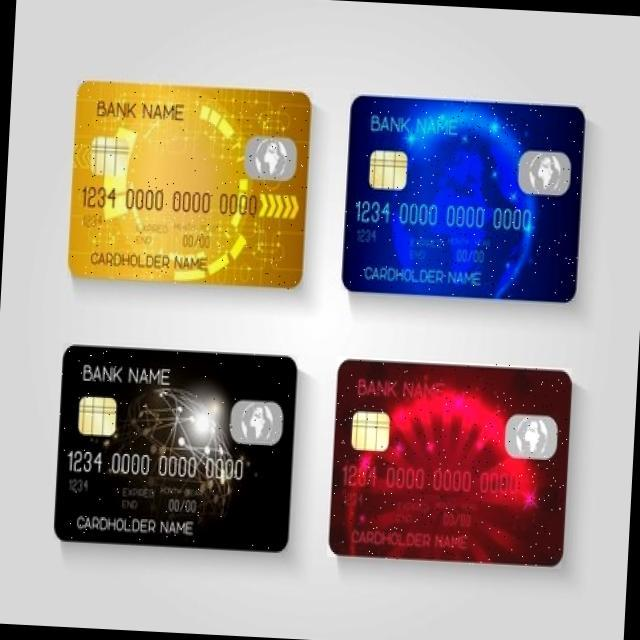payment_card: (67, 78, 311, 289), (53, 343, 297, 552), (341, 93, 585, 302), (327, 358, 572, 566)
